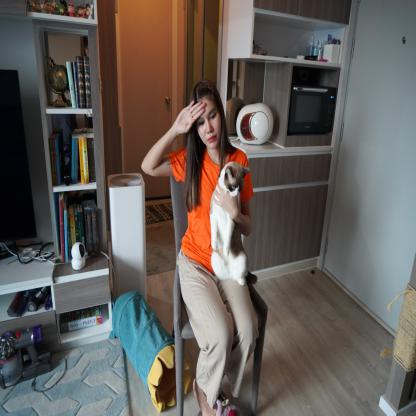Sick: (168, 94, 208, 138)
